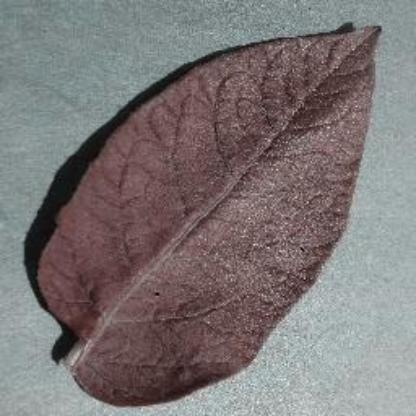Healthy-plant: (27, 22, 398, 409)
